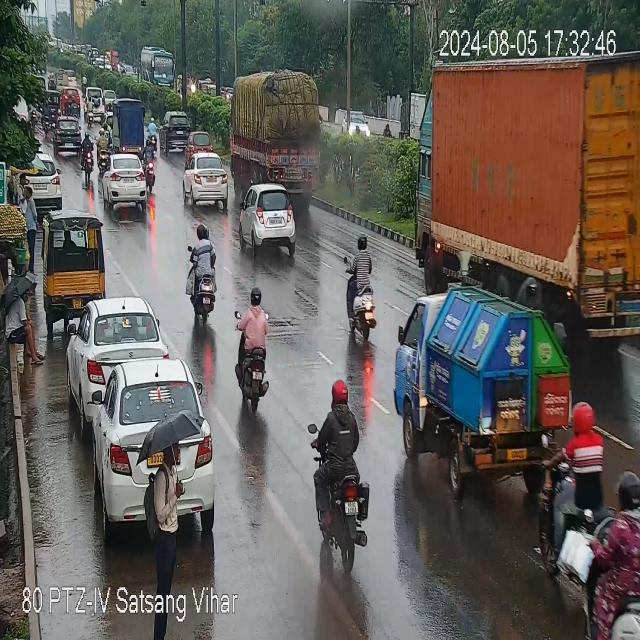2-wheelers: (526, 406, 607, 569), (313, 394, 371, 568), (585, 468, 640, 629), (342, 234, 380, 338), (241, 284, 268, 412), (190, 220, 222, 323), (23, 185, 38, 267)
auto: (46, 212, 111, 313)
bus: (137, 42, 178, 92)
car: (99, 355, 207, 530), (69, 306, 166, 415), (244, 186, 299, 260), (182, 151, 230, 208), (20, 152, 64, 206), (103, 156, 147, 210), (163, 107, 197, 147), (342, 108, 374, 141)
pedestrian: (153, 429, 181, 636), (7, 283, 40, 372)
truck: (431, 62, 640, 336), (398, 294, 555, 463), (238, 70, 322, 204)
